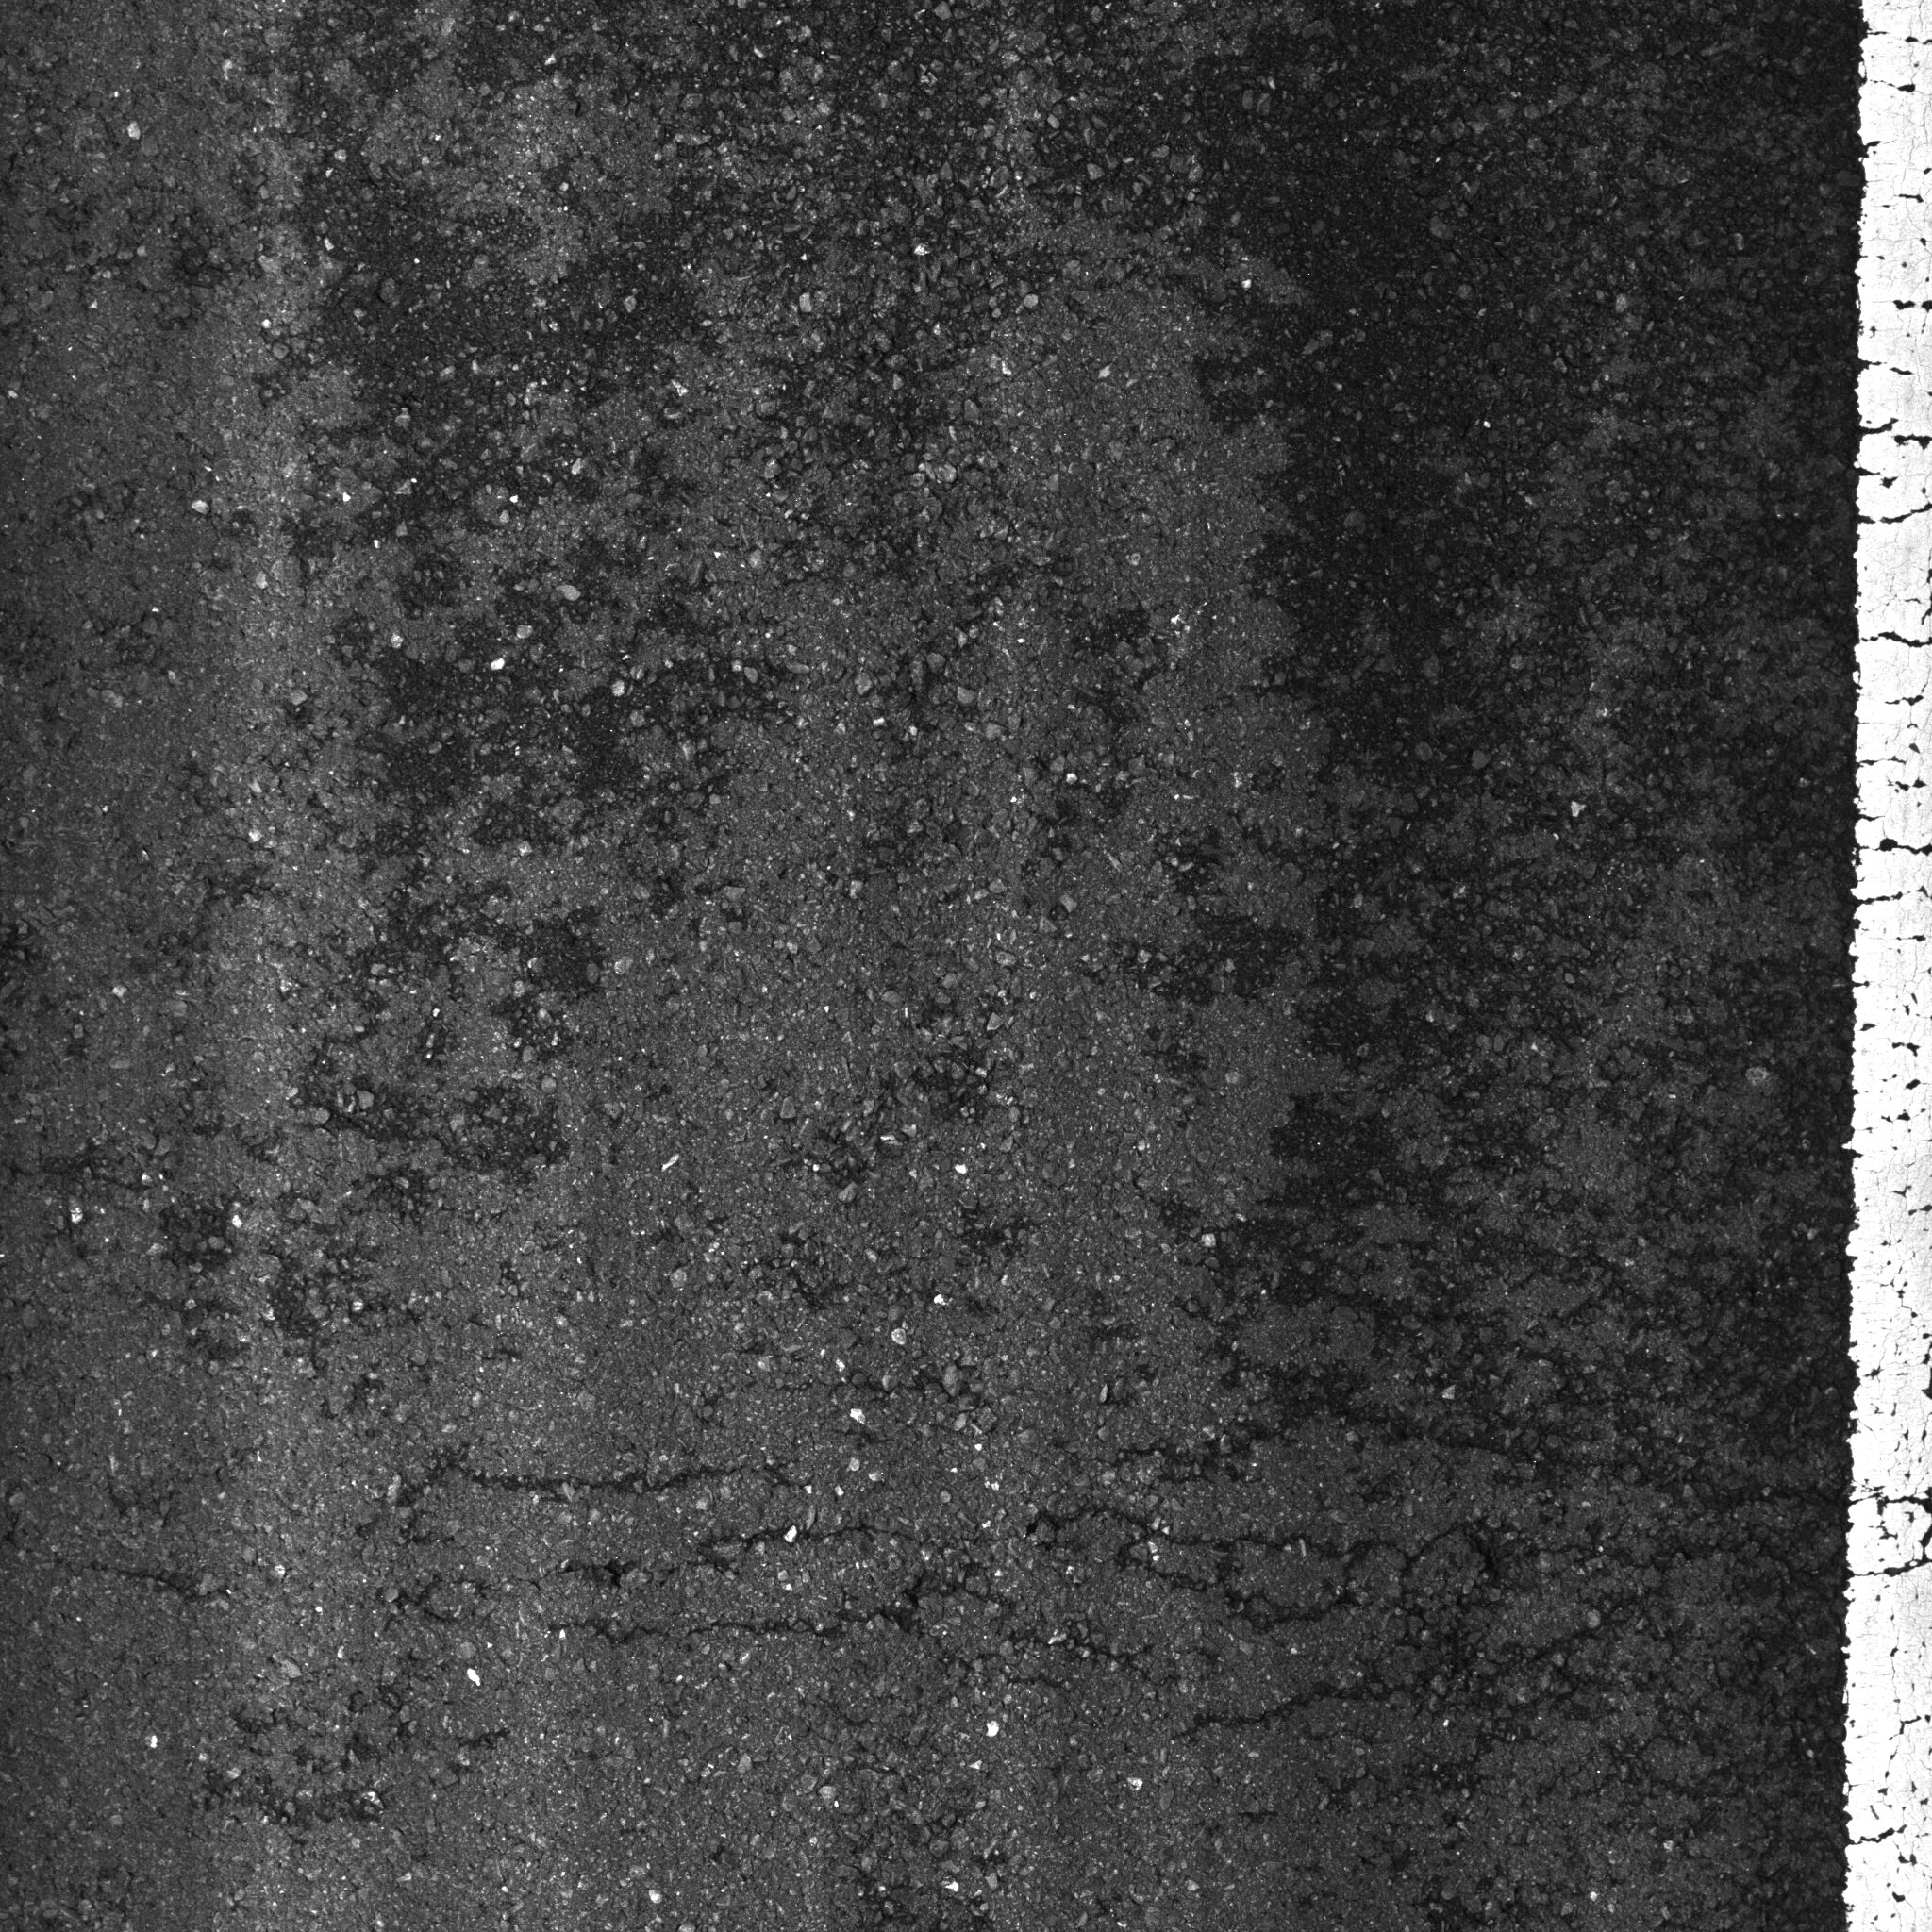transeverse: (428, 1433, 1668, 1771)
